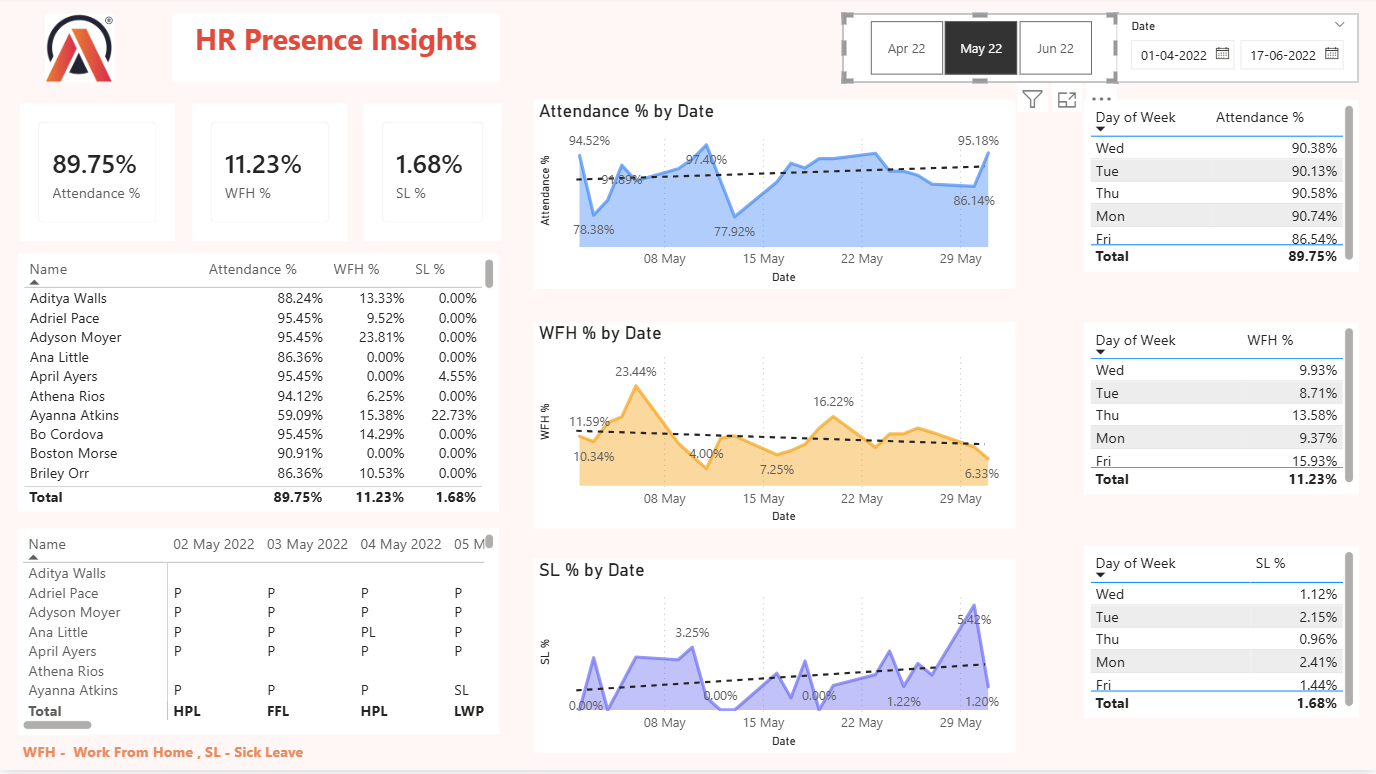

The dashboard page shown, as its layout file describes it:
{"tool":"powerbi","page":{"name":"Page 1","canvas":[1280,720],"ordinal":0},"visuals":[{"type":"slicer","fields":{"Values":["Final Data.Month"]},"box":[784,16,256,64],"z":0,"group":"g4"},{"type":"tableEx","fields":{"Values":["Final Data.Day of Week","Measures (2).Presence %"]},"box":[1008,96,256,160],"z":0},{"type":"cardVisual","fields":{"Data":["Measures (2).Presence %"]},"box":[18.1,100.5,144,128],"z":0,"group":"g2"},{"type":"slicer","fields":{"Values":["Final Data.Date"]},"box":[1040,16,224,64],"z":1000,"group":"g4"},{"type":"tableEx","fields":{"Values":["Final Data.Day of Week","Measures (2).WFH %"]},"box":[1008,304,256,160],"z":1000},{"type":"group","id":"g1","title":"Group 1","box":[16,16,448,64],"z":2000},{"type":"cardVisual","fields":{"Data":["Measures (2).WFH %"]},"box":[178.1,100.5,144,128],"z":2000,"group":"g2"},{"type":"cardVisual","fields":{"Data":["Measures (2).SL %"]},"box":[338.1,100.5,128,128],"z":3000,"group":"g2"},{"type":"tableEx","fields":{"Values":["Final Data.Day of Week","Measures (2).SL %"]},"box":[1008,512,256,160],"z":3000},{"type":"tableEx","fields":{"Values":["Final Data.Name","Measures (2).Presence %","Measures (2).WFH %","Measures (2).SL %"]},"box":[16,240,448,240],"z":4000,"group":"g3"},{"type":"textbox","box":[16,688,448,32],"z":4000},{"type":"textbox","box":[160,16,304,64],"z":5000,"group":"g1"},{"type":"group","id":"g2","title":"Group 2","box":[18.1,100.5,448,128],"z":5000},{"type":"group","id":"g3","title":"Group 3","box":[16,240,448,448],"z":6000},{"type":"pivotTable","fields":{"Rows":["Final Data.Name"],"Values":["Min(Final Data.Value)"],"Columns":["Final Data.Date"]},"box":[16,496,448,192],"z":6000,"group":"g3"},{"type":"areaChart","fields":{"Category":["Final Data.Date"],"Y":["Measures (2).Presence %"]},"box":[496,96,448,176],"z":7000},{"type":"areaChart","fields":{"Category":["Final Data.Date"],"Y":["Measures (2).WFH %"]},"box":[496,304,448,192],"z":8000},{"type":"areaChart","fields":{"Category":["Final Data.Date"],"Y":["Measures (2).SL %"]},"box":[496,523.1,448,180.9],"z":9000},{"type":"group","id":"g4","title":"Group 4","box":[784,16,480,64],"z":10000},{"type":"image","box":[16,16,116.1,64],"z":14000,"group":"g1"}]}

Visuals, with their boxes in screenshot pixels (x1, y1, x2, y2), scaled from the page's 1280x720 canvas onto the 1376x774 screenshot:
slicer - Final Data.Month: (left=843, top=17, right=1118, bottom=86)
tableEx - Final Data.Day of Week x Measures (2).Presence %: (left=1084, top=103, right=1359, bottom=275)
cardVisual - Measures (2).Presence %: (left=19, top=108, right=174, bottom=246)
slicer - Final Data.Date: (left=1118, top=17, right=1359, bottom=86)
tableEx - Final Data.Day of Week x Measures (2).WFH %: (left=1084, top=327, right=1359, bottom=499)
"Group 1" group: (left=17, top=17, right=499, bottom=86)
cardVisual - Measures (2).WFH %: (left=191, top=108, right=346, bottom=246)
cardVisual - Measures (2).SL %: (left=363, top=108, right=501, bottom=246)
tableEx - Final Data.Day of Week x Measures (2).SL %: (left=1084, top=550, right=1359, bottom=722)
tableEx - Final Data.Name x Measures (2).Presence %: (left=17, top=258, right=499, bottom=516)
textbox: (left=17, top=740, right=499, bottom=773)
textbox: (left=172, top=17, right=499, bottom=86)
"Group 2" group: (left=19, top=108, right=501, bottom=246)
"Group 3" group: (left=17, top=258, right=499, bottom=740)
pivotTable - Final Data.Name x Min(Final Data.Value): (left=17, top=533, right=499, bottom=740)
areaChart - Final Data.Date x Measures (2).Presence %: (left=533, top=103, right=1015, bottom=292)
areaChart - Final Data.Date x Measures (2).WFH %: (left=533, top=327, right=1015, bottom=533)
areaChart - Final Data.Date x Measures (2).SL %: (left=533, top=562, right=1015, bottom=757)
"Group 4" group: (left=843, top=17, right=1359, bottom=86)
image: (left=17, top=17, right=142, bottom=86)
